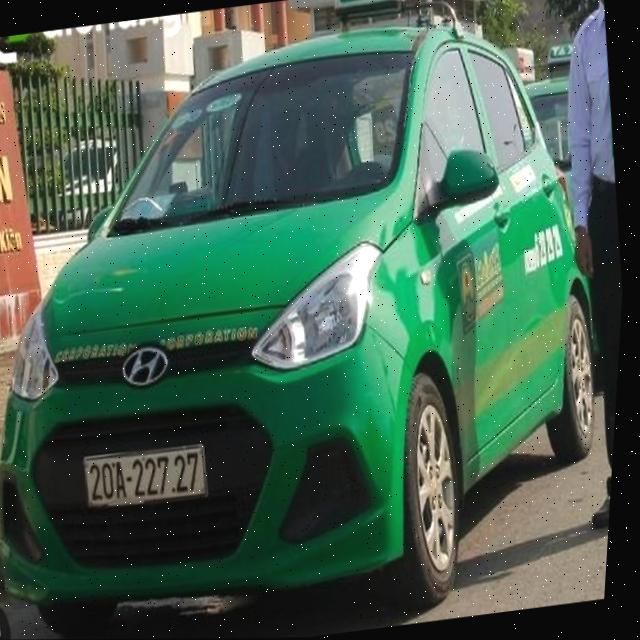car: (0, 0, 638, 640)
plate: (72, 437, 218, 518)
